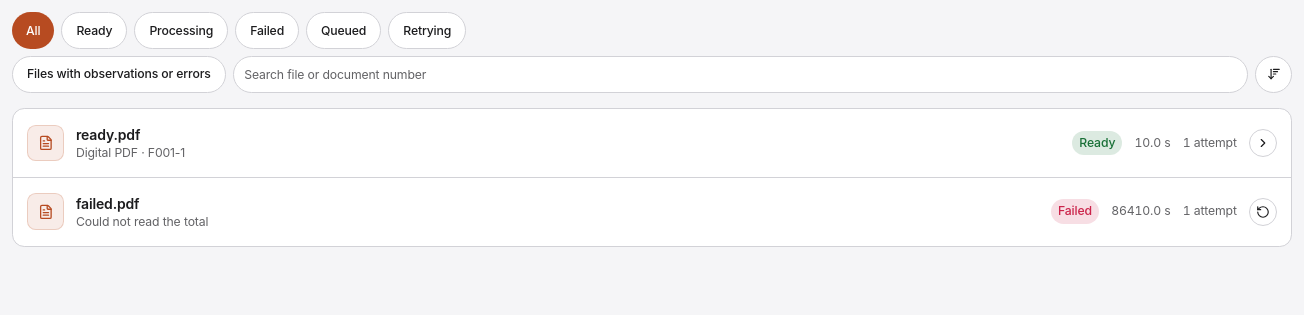
Scenario: status and issue filters narrow the list and sort changes order
Click the button named "Oldest first": (1274,74) 1255,56 -> 1292,93
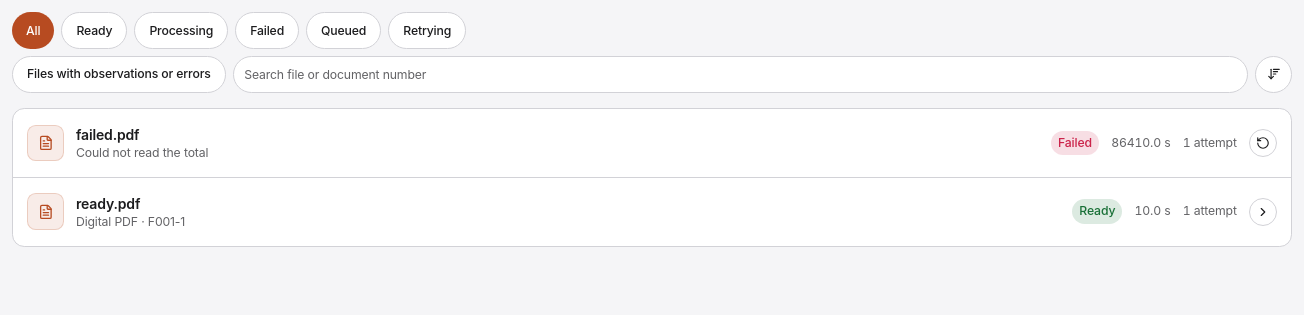
Check: the list item that starts with "failed.pdf" is shown, box 76,126 -> 139,143
Click the button "Files with observations or errors": (119,74) 12,56 -> 226,93
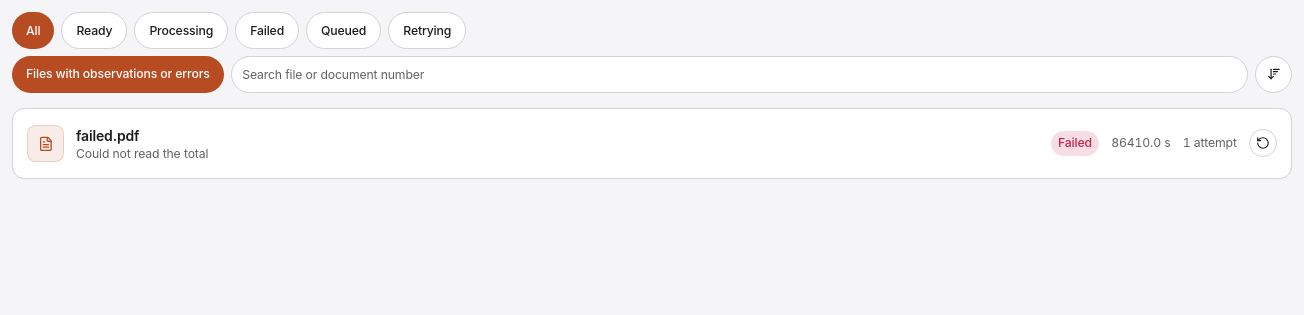
Check: the text "ready.pdf" is gone
Click the button "Ready": (94,30) 61,12 -> 127,49
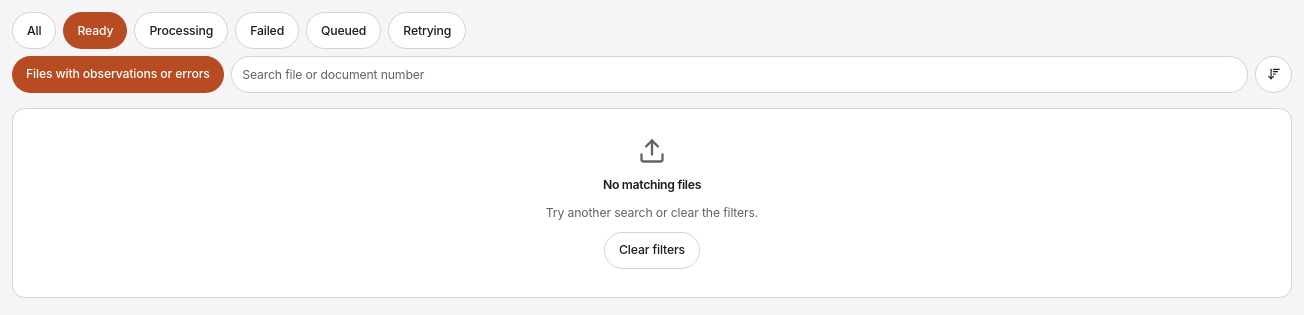
Check: the heading "No matching files" is shown, box 603,176 -> 701,193
